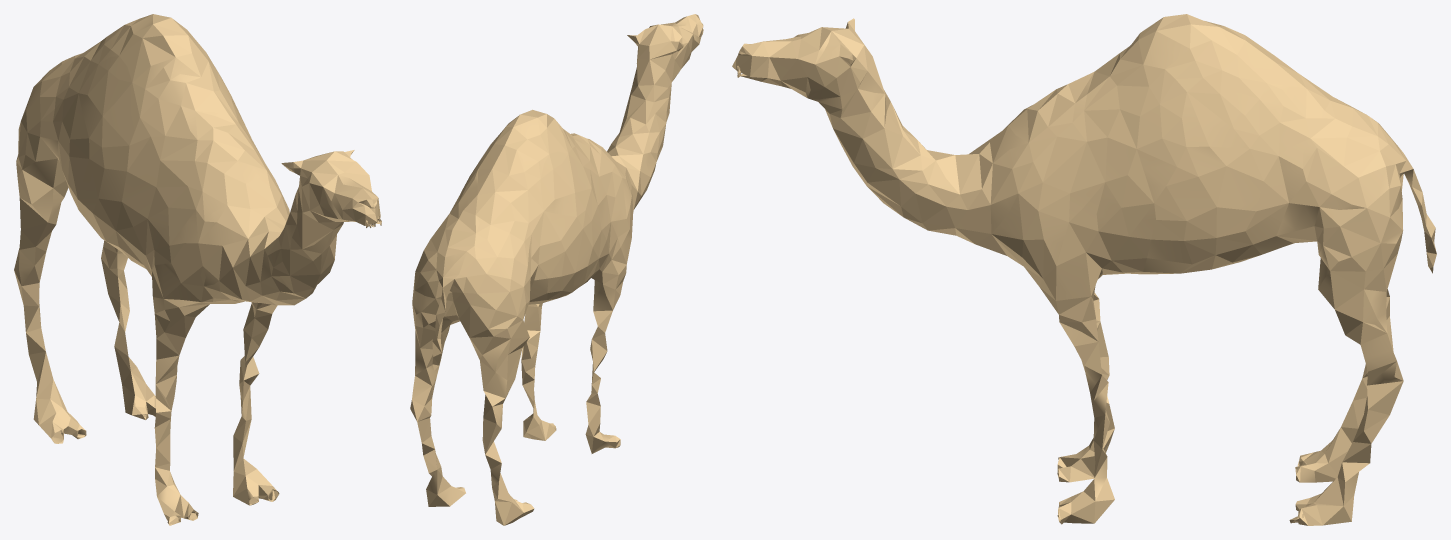
The model's file is Camel_Desert_World_Kloiber.fbx.
3 views of the same model, side by side, from view 1: azimuth 30°, elevation 25°; view 2: azimuth 150°, elevation 25°; view 3: azimuth 270°, elevation 25° (orthographic). The views are drawn at different scales.
Visible parts, largest first — view 1: camel_2; view 2: camel_2; view 3: camel_2.
Part boxes in pixels (x1,y1,x2,y2): camel_2: (14,14,381,525); camel_2: (410,14,703,525); camel_2: (732,14,1436,525).
Size of the model in its own units: 0.7339 by 2.16 by 2.88.
